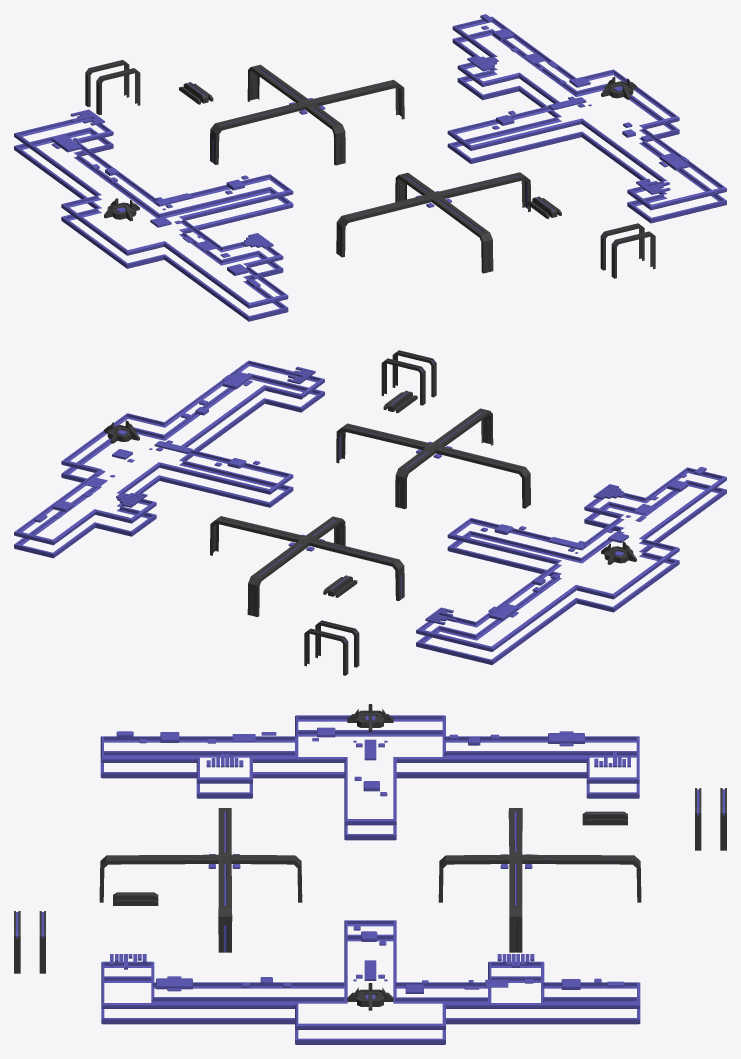
File: P2L2_Walls.fbx
3 views of the same model, one above another, from view 1: azimuth 30°, elevation 25°; view 2: azimuth 150°, elevation 25°; view 3: azimuth 270°, elevation 25° (orthographic). The views are drawn at different scales.
Visible parts, largest first — view 1: polySurface39, polySurface33, polySurface16 (×2), polySurface25 (×2), polySurface32, polySurface38; view 2: polySurface33, polySurface39, polySurface16 (×2), polySurface25 (×2); view 3: polySurface33, polySurface39, polySurface16 (×2), polySurface25 (×2), polySurface22 (×2), polySurface32, polySurface38.
Part boxes in pixels (left/top/right/bottom): polySurface39: left=14, top=109, right=293, bottom=321; polySurface33: left=447, top=14, right=726, bottom=223; polySurface16 (×2): left=210, top=64, right=530, bottom=273; polySurface25 (×2): left=85, top=60, right=655, bottom=278; polySurface32: left=601, top=77, right=636, bottom=99; polySurface38: left=104, top=198, right=139, bottom=221; polySurface33: left=14, top=360, right=324, bottom=558; polySurface39: left=416, top=467, right=726, bottom=664; polySurface16 (×2): left=210, top=408, right=530, bottom=616; polySurface25 (×2): left=304, top=350, right=436, bottom=675; polySurface33: left=101, top=920, right=640, bottom=1044; polySurface39: left=100, top=715, right=639, bottom=840; polySurface16 (×2): left=99, top=808, right=641, bottom=952; polySurface25 (×2): left=14, top=788, right=726, bottom=973; polySurface22 (×2): left=113, top=811, right=627, bottom=905; polySurface32: left=347, top=983, right=393, bottom=1010; polySurface38: left=347, top=704, right=393, bottom=731.
Size of the model in its own units: 4543 by 357 by 4415.
